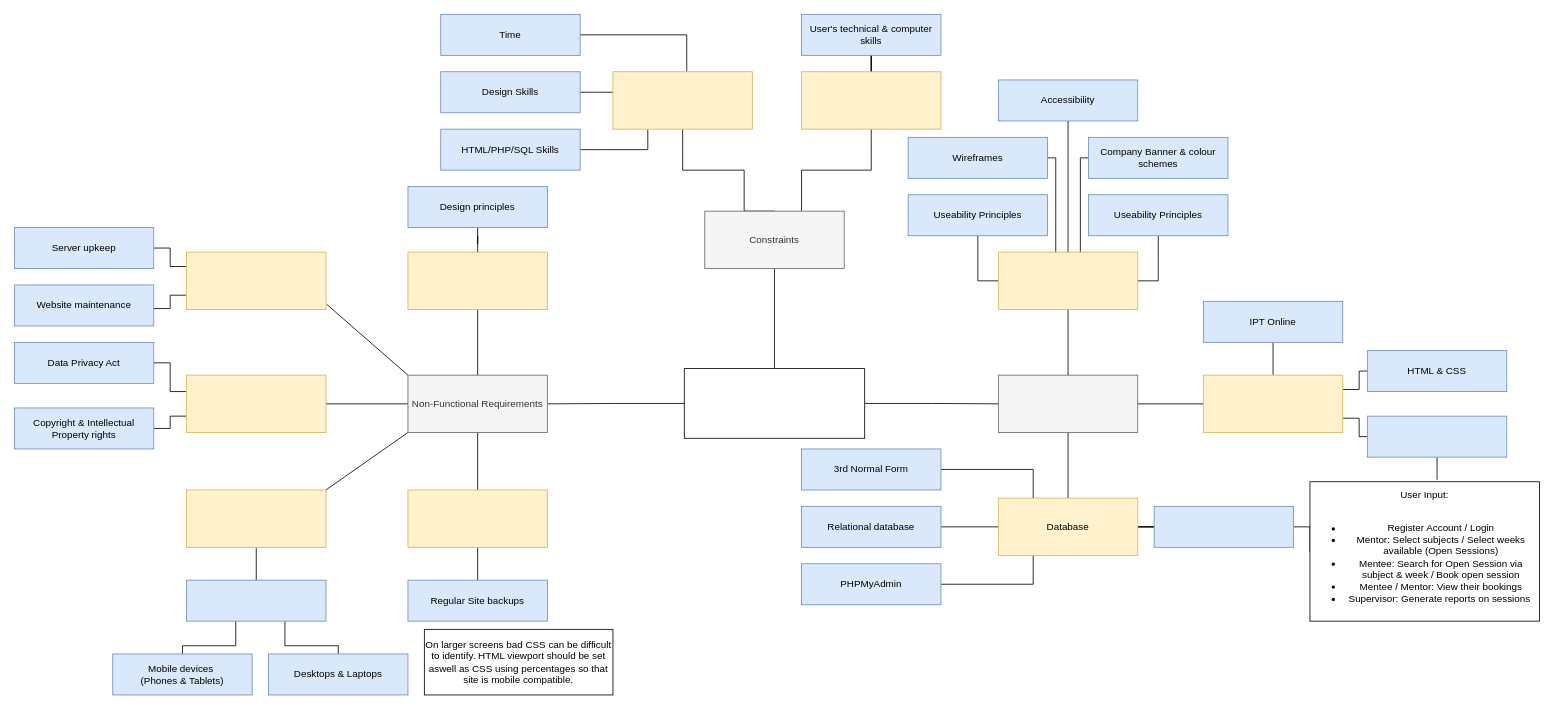
The diagram is 1554 pixels wide and 709 high, and some of its shapes have lost their labels. Here are the shapes that lost their labels. From the top down, the centre of each, then its label:
At (x=682, y=100): "Developer Enviromemt".
At (x=871, y=100): "User Enviroment".
At (x=256, y=280): "Economical".
At (x=477, y=280): "User Experience".
At (x=1068, y=280): "User Interface (UI)".
At (x=256, y=403): "Legal".
At (x=774, y=403): "School Tutoring System".
At (x=1068, y=403): "Functional Requirements".
At (x=1273, y=403): "Code".
At (x=1437, y=436): "PHP".
At (x=256, y=518): "Device".
At (x=477, y=518): "Security".
At (x=1223, y=526): "Retrieve/ Update data".
At (x=256, y=600): "Browser based".
